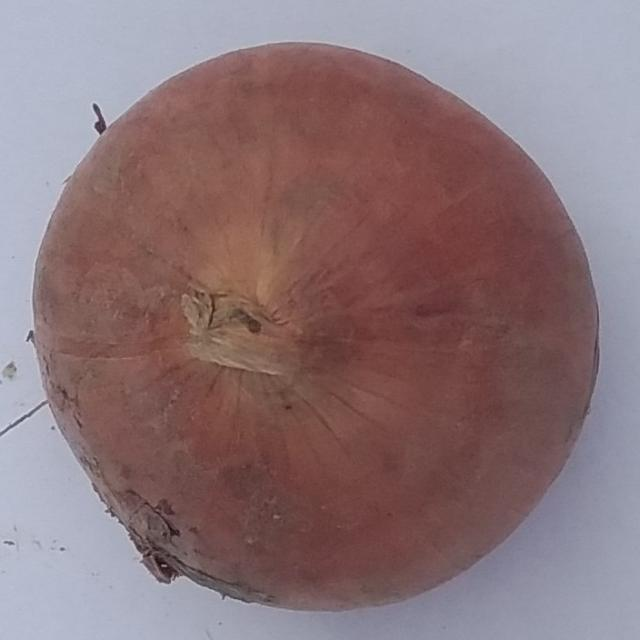onion: (29, 40, 601, 617)
